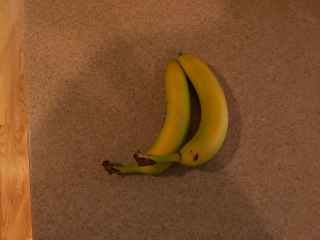banana: (108, 57, 188, 181), (174, 49, 233, 172)
